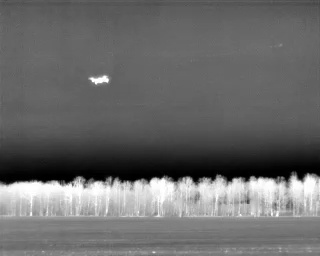DRONE: (86, 70, 114, 89)
